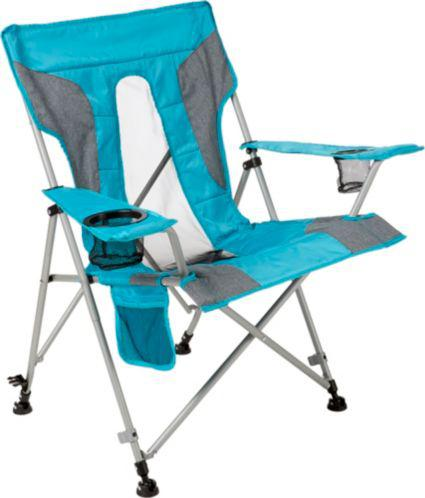chair: (5, 10, 401, 498)
